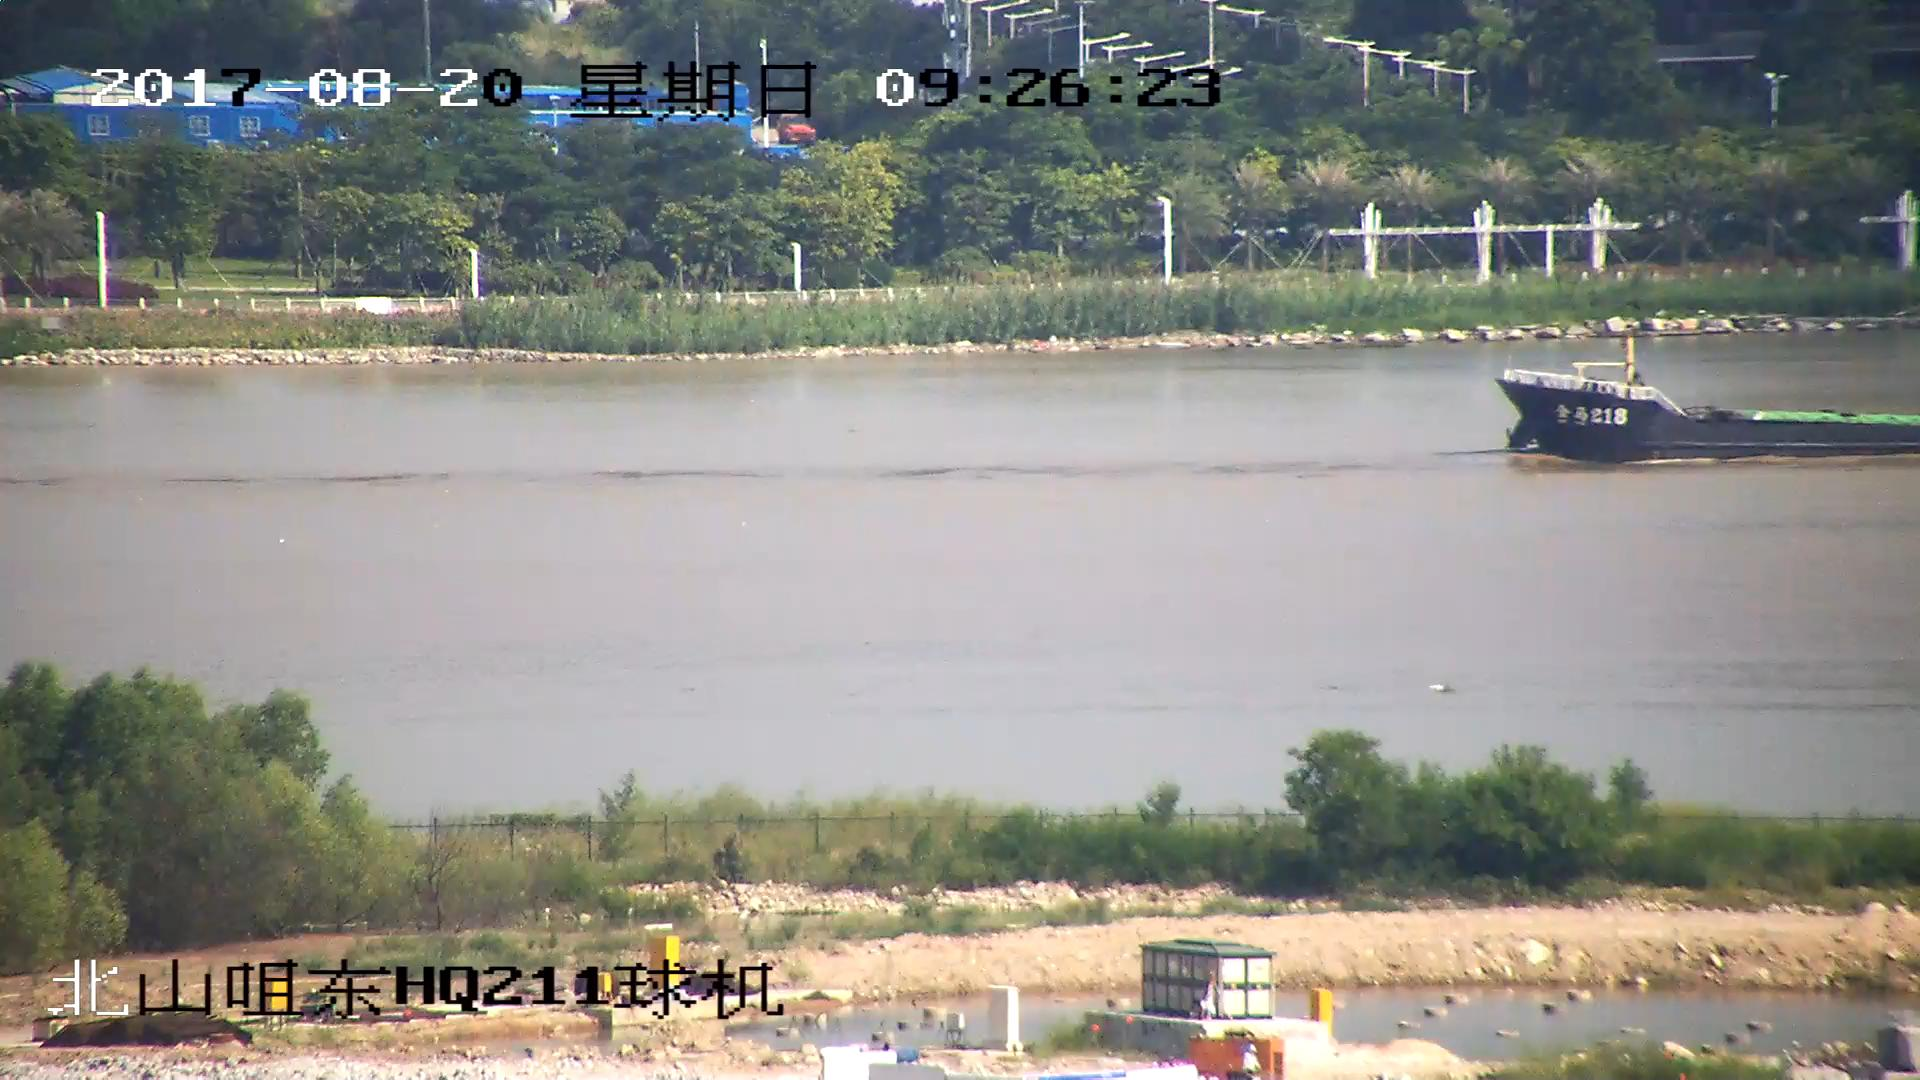general cargo ship: (1501, 364, 1920, 461)
